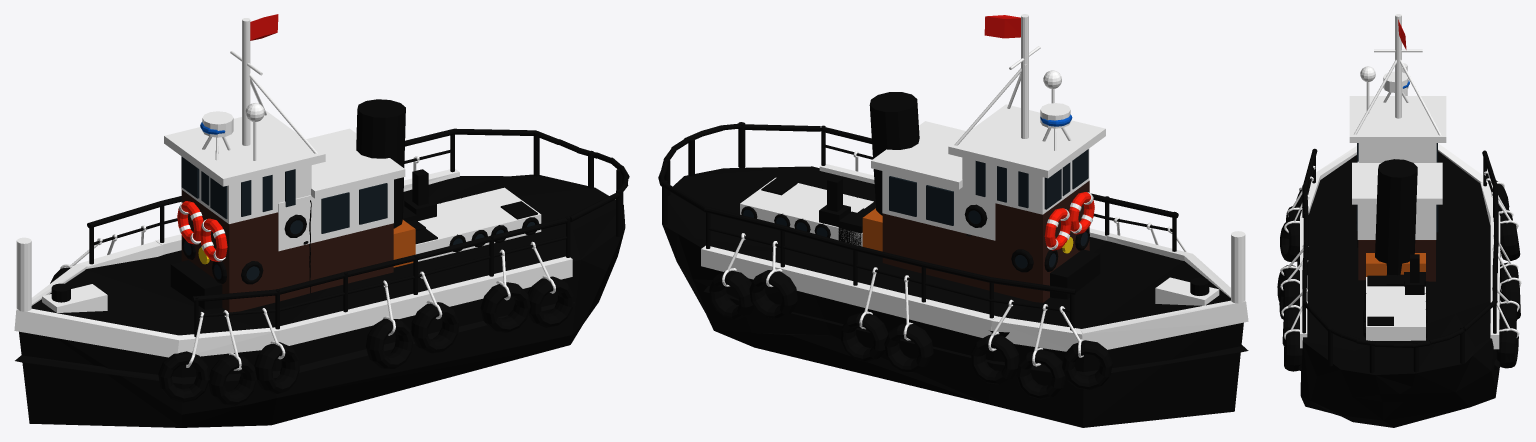
The model's file is tug.obj.
3 renders of one model, left to right at view 1: azimuth 30°, elevation 25°; view 2: azimuth 150°, elevation 25°; view 3: azimuth 270°, elevation 25°, orthographic. The views are drawn at different scales.
Parts seen in each view (by area): view 1: group986023678, group1483103472, group1630688789, group1688934664, group1070107753, group1491409755, group940573650, group727606289, group1545471277, group1961124225, group1935290195, group1026484787 (+29 smaller); view 2: group986023678, group1483103472, group1646897682, group1630688789, group1207921442, group940573650, group1491409755, group727606289, group1935290195, group1073760931, group1545471277, group1026484787 (+28 smaller); view 3: group986023678, group727606289, group1630688789, group1491409755, group1026484787, group1935290195, group1545471277, group940573650, group838769383, group1073760931, group1646897682, group1961124225 (+23 smaller).
Part boxes in pixels (x1,y1,x2,y2): group986023678: (19,174,625,427); group1483103472: (181,190,311,312); group1630688789: (164,111,325,186); group1688934664: (278,256,572,345); group1070107753: (14,308,179,357); group1491409755: (306,128,405,198); group940573650: (311,223,393,292); group727606289: (356,99,405,228); group1545471277: (278,179,393,251); group1961124225: (192,216,570,302); group1935290195: (181,156,311,223); group1026484787: (442,187,541,245); group986023678: (662,166,1243,427); group1483103472: (962,180,1089,302); group1646897682: (701,245,996,337); group1630688789: (948,104,1105,178); group1207921442: (1080,300,1248,349); group940573650: (882,213,962,283); group1491409755: (871,121,965,189); group727606289: (869,92,919,215); group1935290195: (962,148,1089,214); group1073760931: (704,206,1076,294); group1545471277: (882,171,995,240); group1026484787: (740,177,826,228); group986023678: (1300,151,1500,427); group727606289: (1375,159,1417,275); group1630688789: (1349,96,1446,142); group1491409755: (1352,162,1442,204); group1026484787: (1366,302,1425,340); group1935290195: (1358,143,1436,162); group1545471277: (1357,161,1436,239); group940573650: (1358,240,1435,281); group838769383: (1366,277,1425,302); group1073760931: (1482,150,1498,302); group1646897682: (1490,216,1500,349); group1961124225: (1302,148,1317,303).
Size of the model in its own units: 4.59 by 2.71 by 2.
